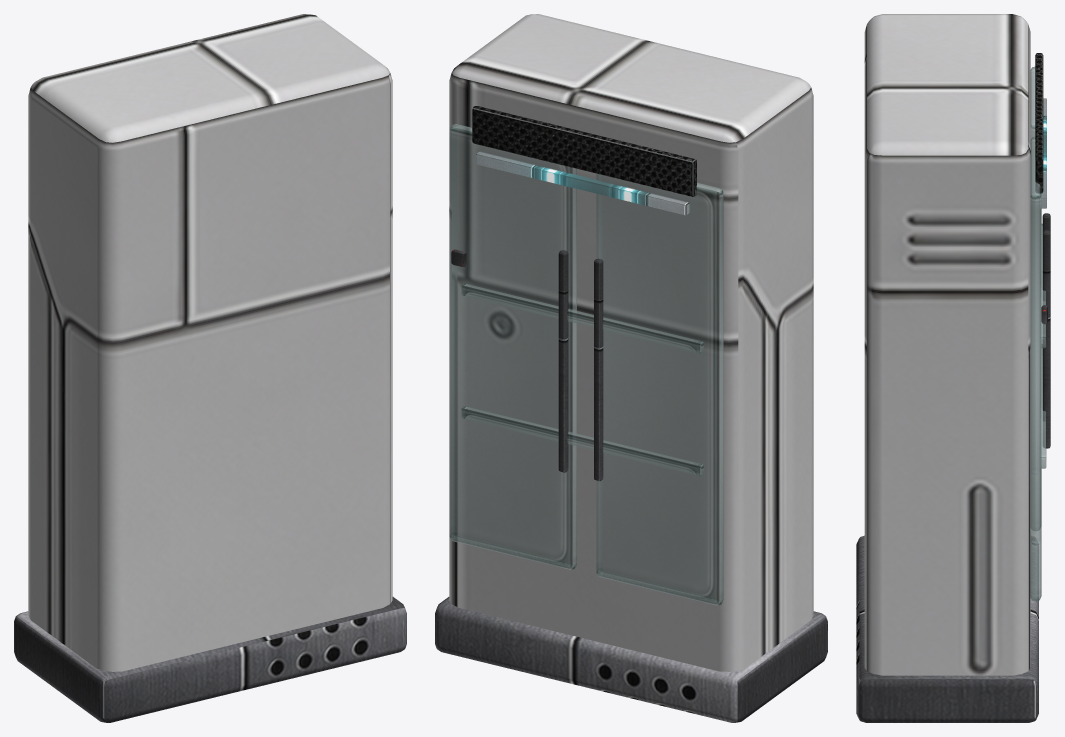
Rendered from hp_l4_cineclinic_med_cabinet.glb.
The picture shows the model from 3 angles, left to right: view 1: azimuth 30°, elevation 25°; view 2: azimuth 150°, elevation 25°; view 3: azimuth 270°, elevation 25°; orthographic projection.
Parts seen in each view (by area): view 1: cabinet_body, titanium_plinth; view 2: cabinet_body, glass_door_left, glass_door_right, titanium_plinth, top_black_vent, cyan_lock_strip, glass_inner_shelf_1, glass_inner_shelf_2, right_vertical_handle, left_vertical_handle; view 3: cabinet_body, titanium_plinth, glass_door_right, glass_door_left, right_vertical_handle, top_black_vent, glass_inner_shelf_1, cyan_lock_strip, glass_inner_shelf_2.
Boxes of the visible parts, left/top/right/bottom form: cabinet_body: left=28, top=14, right=392, bottom=671; titanium_plinth: left=14, top=597, right=406, bottom=722; cabinet_body: left=449, top=14, right=813, bottom=671; glass_door_left: left=596, top=173, right=723, bottom=605; glass_door_right: left=449, top=124, right=576, bottom=569; titanium_plinth: left=435, top=597, right=827, bottom=722; top_black_vent: left=472, top=106, right=696, bottom=196; cyan_lock_strip: left=476, top=151, right=689, bottom=215; glass_inner_shelf_1: left=461, top=406, right=703, bottom=476; glass_inner_shelf_2: left=461, top=283, right=703, bottom=353; right_vertical_handle: left=558, top=250, right=568, bottom=472; left_vertical_handle: left=594, top=258, right=603, bottom=481; cabinet_body: left=864, top=14, right=1030, bottom=675; titanium_plinth: left=856, top=535, right=1038, bottom=722; glass_door_right: left=1030, top=137, right=1041, bottom=601; glass_door_left: left=1030, top=66, right=1040, bottom=530; right_vertical_handle: left=1042, top=230, right=1050, bottom=448; top_black_vent: left=1035, top=53, right=1043, bottom=193; glass_inner_shelf_1: left=1040, top=348, right=1046, bottom=468; cyan_lock_strip: left=1039, top=98, right=1046, bottom=208; glass_inner_shelf_2: left=1040, top=223, right=1046, bottom=348.
Bounding box in the file's own units: 1.05 × 1.91 × 0.585.
6 materials, 6 textured.
